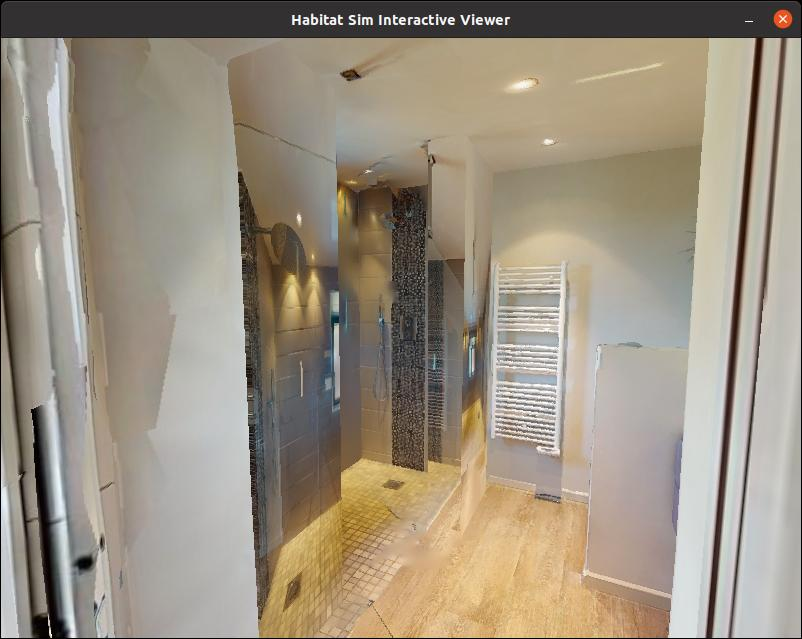shower: (226, 145, 491, 600)
